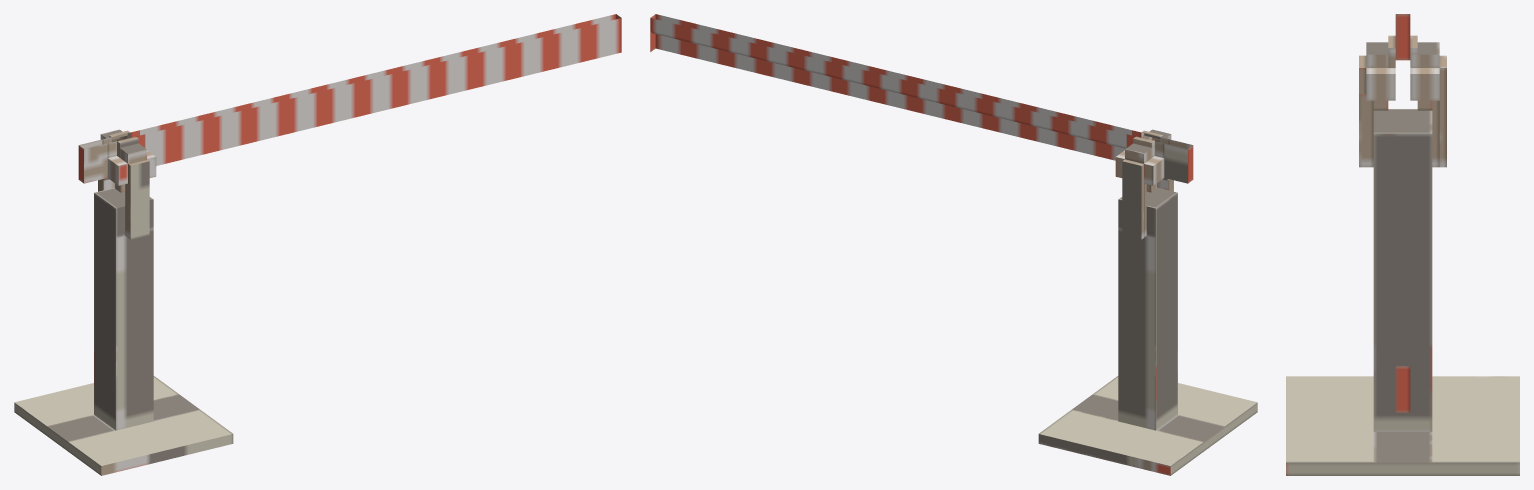
Rendered from BasicRampRedWhite.obj.
The picture shows the model from 3 angles, left to right: view 1: azimuth 30°, elevation 25°; view 2: azimuth 150°, elevation 25°; view 3: azimuth 270°, elevation 25°; orthographic projection. The views are drawn at different scales.
Visible parts, largest first — view 1: Model; view 2: Model; view 3: Model.
Boxes of the visible parts, x1,y1,x2,y2 form: Model: (14, 14, 621, 475); Model: (650, 14, 1257, 475); Model: (1286, 14, 1519, 475).
Bounding box in the file's own units: 32 × 15.87 × 8.61.
Materials: 1 (1 with a texture image).
